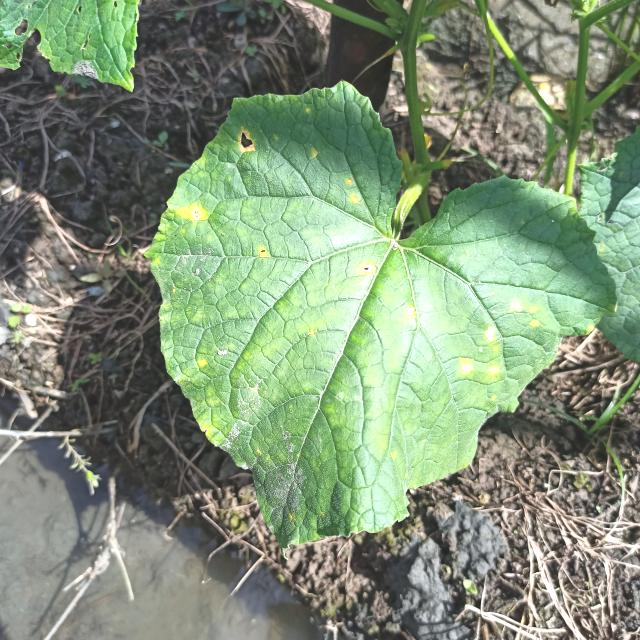disease_cucumber: (459, 298, 542, 375), (176, 202, 207, 224), (343, 176, 360, 204), (238, 128, 255, 154), (358, 262, 374, 275), (404, 306, 417, 318), (257, 248, 268, 257)
